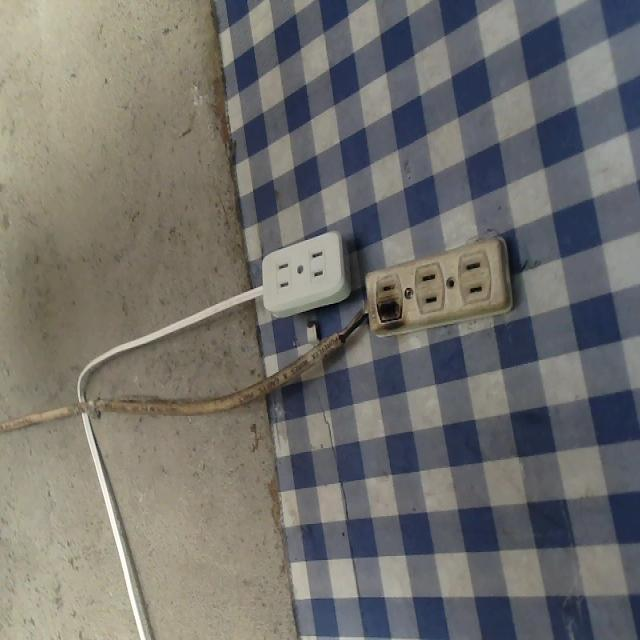-: (366, 294, 407, 342)
